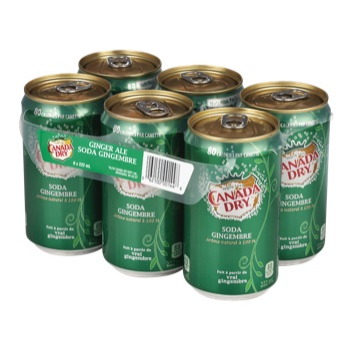Lata: (183, 104, 283, 307)
